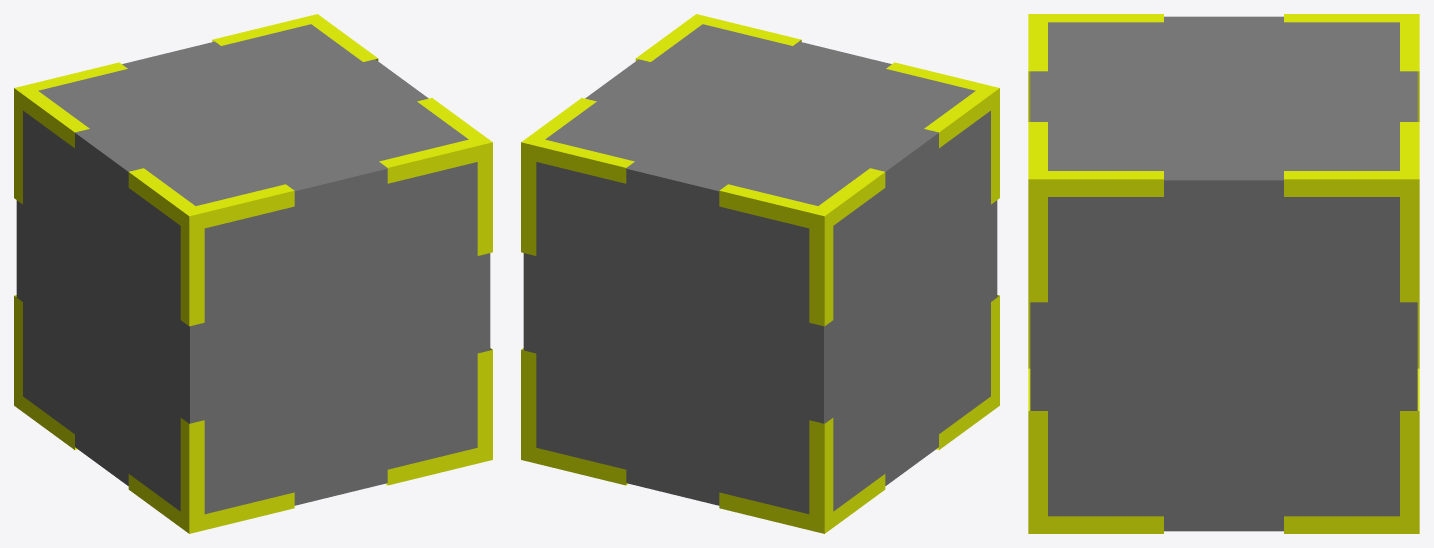
Rendered from trigger_ancoragePoint.fbx.
3 views of the same model, side by side, from view 1: azimuth 30°, elevation 25°; view 2: azimuth 150°, elevation 25°; view 3: azimuth 270°, elevation 25° (orthographic). The views are drawn at different scales.
Parts seen in each view (by area): view 1: trigger_ancoragePoint; view 2: trigger_ancoragePoint; view 3: trigger_ancoragePoint.
Part boxes in pixels (box(x1,y1,x2,y2)): trigger_ancoragePoint: box(14, 14, 492, 533); trigger_ancoragePoint: box(521, 14, 999, 533); trigger_ancoragePoint: box(1028, 14, 1419, 533).
Bounding box in the file's own units: 100 × 100 × 100.
